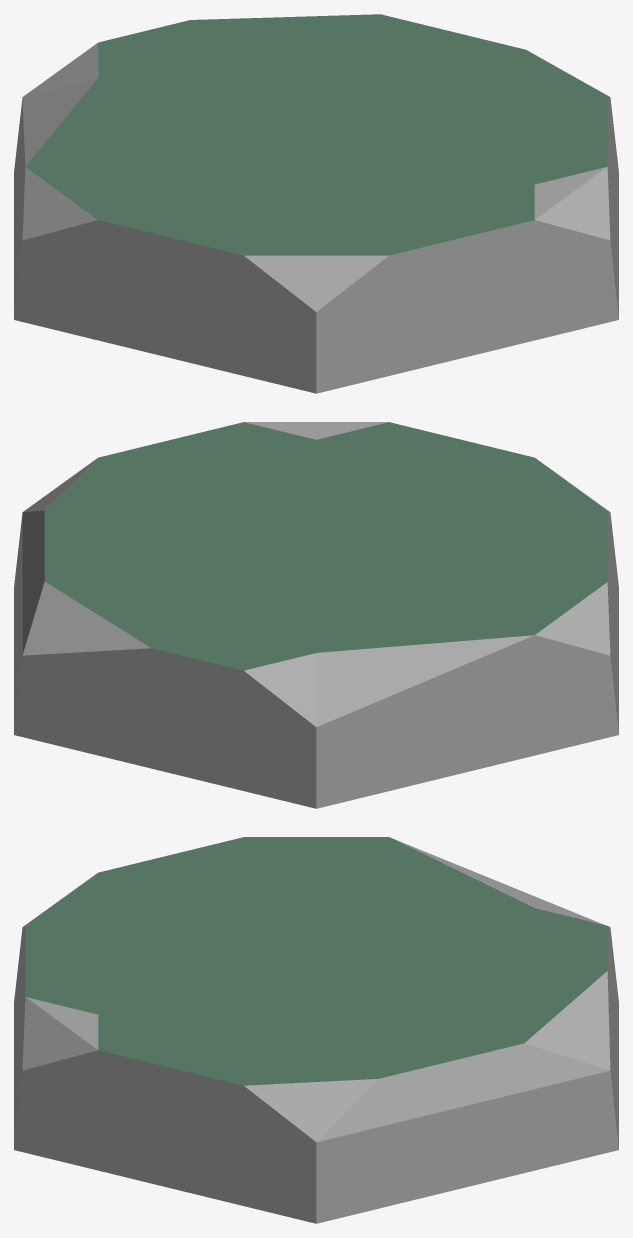
File: Hex15.fbx
3 renders of one model, top to bottom at view 1: azimuth 30°, elevation 25°; view 2: azimuth 150°, elevation 25°; view 3: azimuth 270°, elevation 25°, orthographic.
Visible parts, largest first — view 1: Hex15; view 2: Hex15; view 3: Hex15.
Boxes of the visible parts, left/top/right/bottom form: Hex15: left=14, top=14, right=618, bottom=393; Hex15: left=14, top=422, right=618, bottom=808; Hex15: left=14, top=837, right=618, bottom=1223.
Bounding box in the file's own units: 2 × 0.3628 × 1.73.
